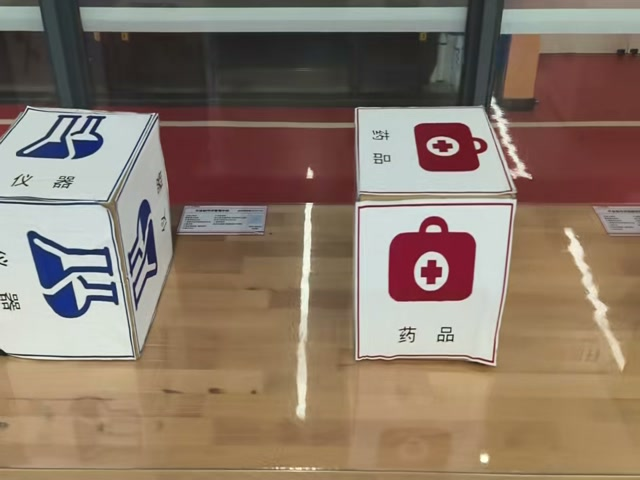Cube_ins: (0, 107, 157, 203)
Cube_medicine: (356, 107, 515, 205)
